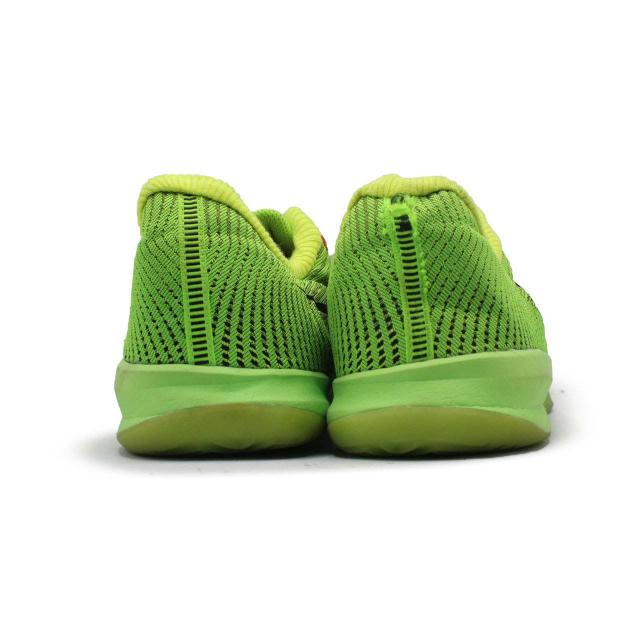heel: (117, 171, 312, 372), (322, 170, 522, 354)
midsole: (331, 356, 554, 452), (113, 362, 333, 452)
